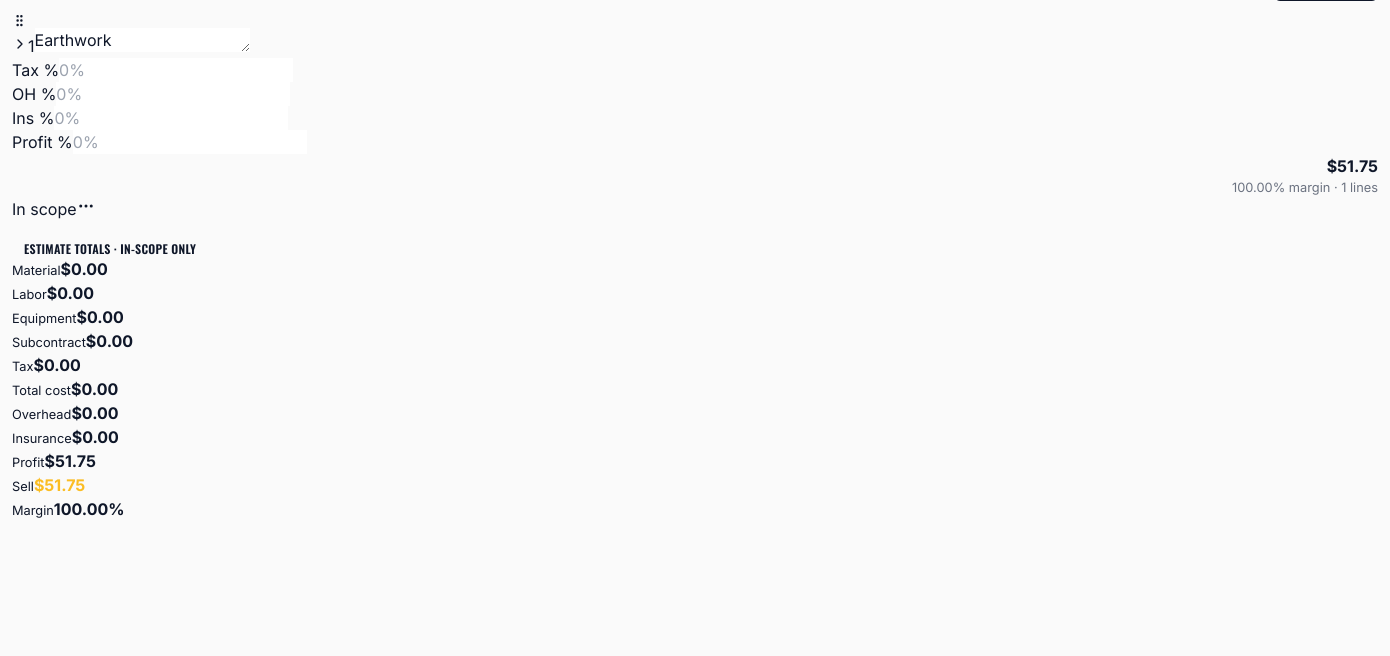
Test: Practical takeoff editing › shows the effective unit price beneath Sell and marks only overrides as manual
Click the button named "Expand category Earthwork" at {"x": 20, "y": 44}, box [12,36,28,52]
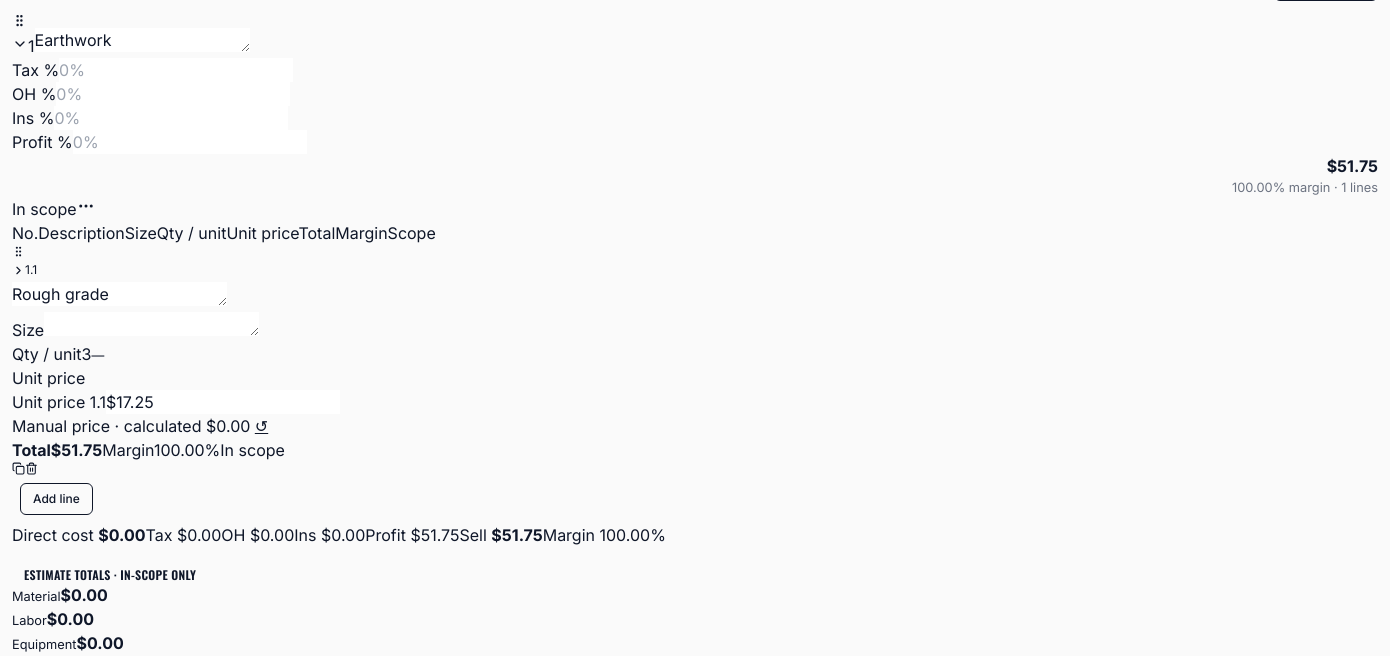
Click the button named "Expand line 1.1" at {"x": 25, "y": 270}, box [12,258,37,282]
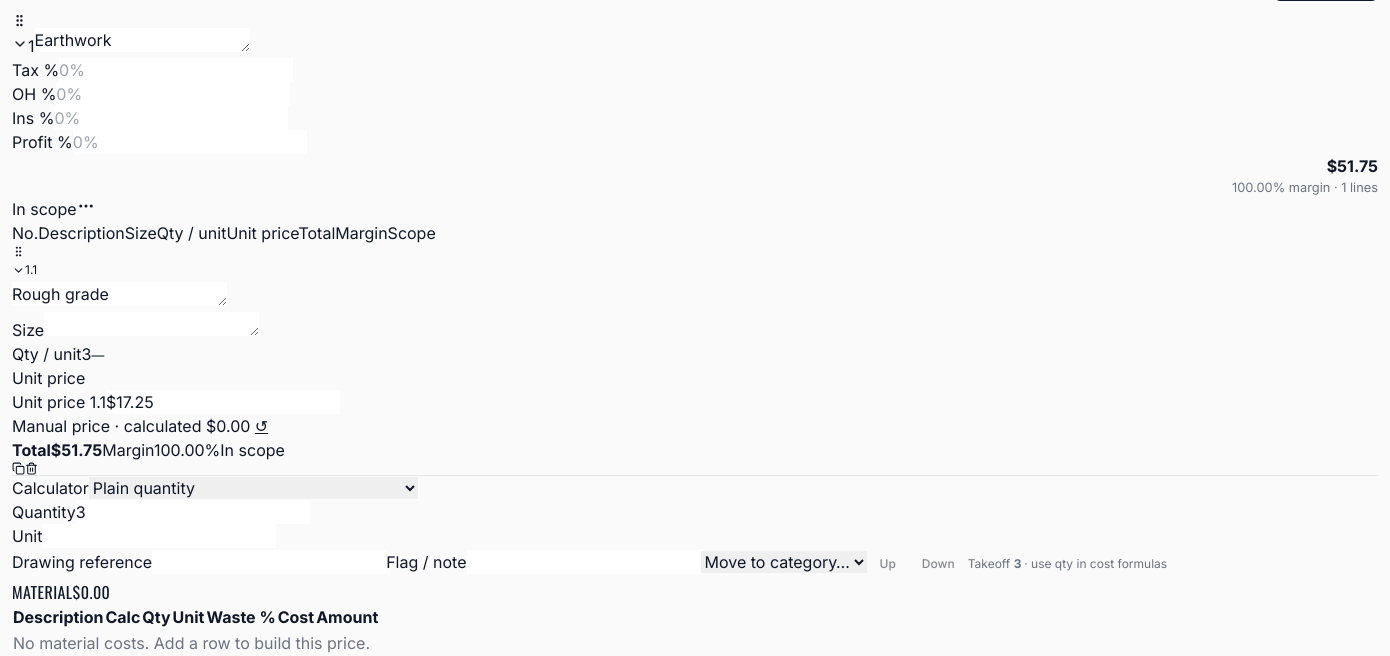
Click the button named "Reset Unit price 1.1 to calculated" at {"x": 262, "y": 426}, box [255,414,268,438]
(page scrolled)
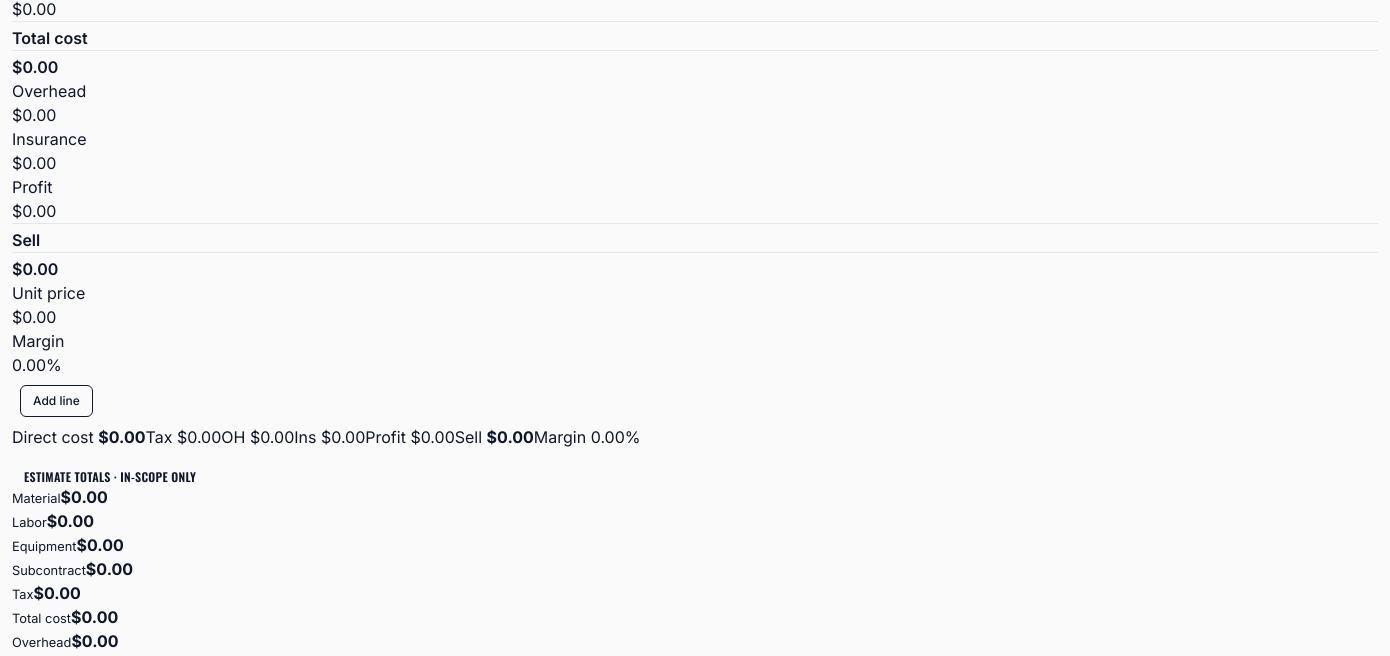
Now the 8th text "$0.00" is shown, box [12,307,56,327]
